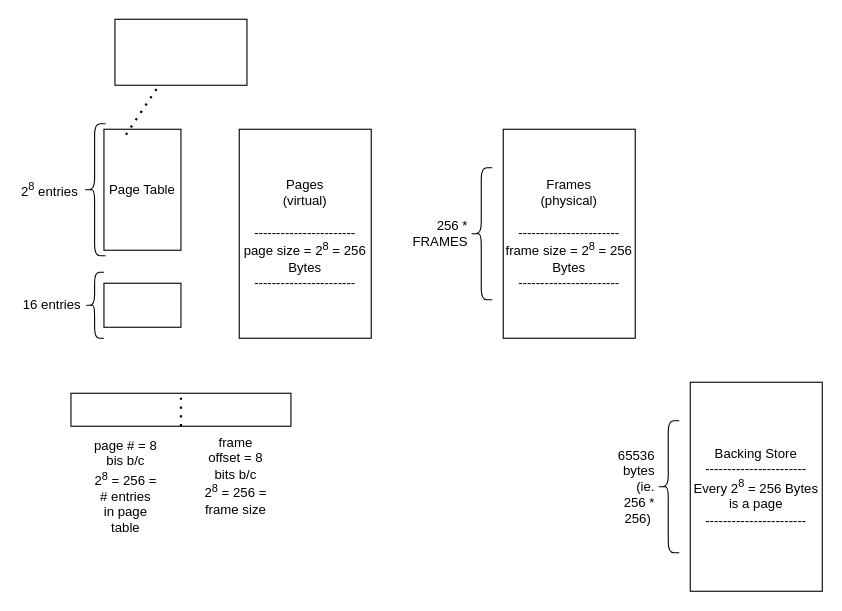
This 842x611 diagram has some shape labels left out. Each missing label, with the centre of its shape:
Loaded? bit (page #, frame #): (x=180, y=51)
TLB: (x=142, y=304)
virtual address: (x=180, y=409)
